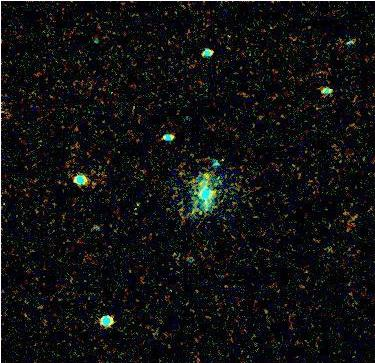star: (187, 161, 217, 191)
